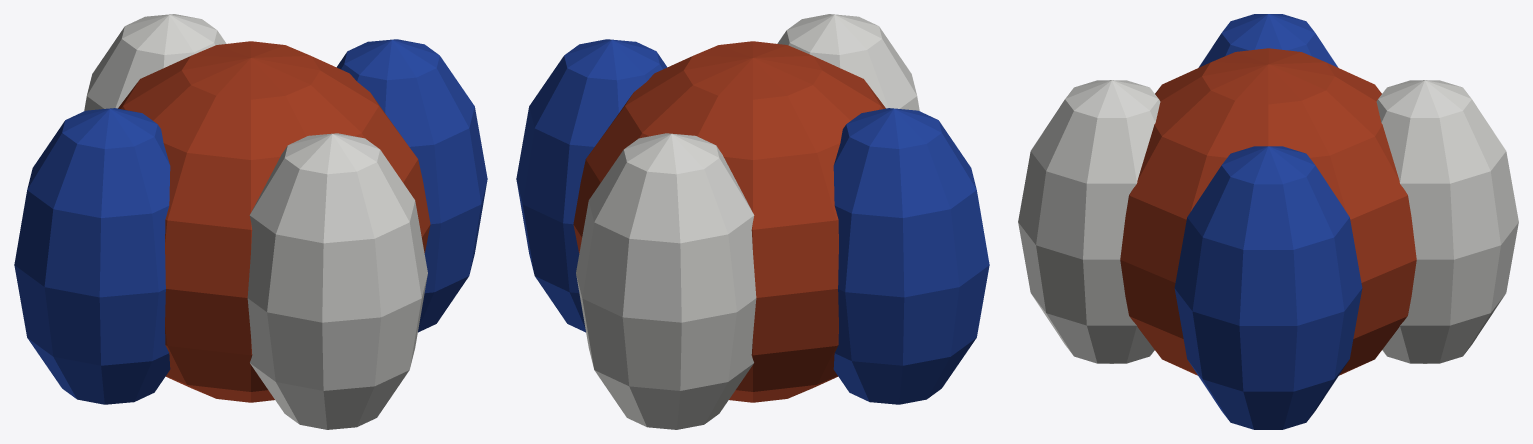
Rendered from PRP_BeachBall_BCH_v001.glb.
The picture shows the model from 3 angles, left to right: view 1: azimuth 30°, elevation 25°; view 2: azimuth 150°, elevation 25°; view 3: azimuth 270°, elevation 25°; orthographic projection. The views are drawn at different scales.
Visible parts, largest first — view 1: PRP_BeachBall_BCH_v001; view 2: PRP_BeachBall_BCH_v001; view 3: PRP_BeachBall_BCH_v001.
Part boxes in pixels (x1=…): PRP_BeachBall_BCH_v001: x1=14, y1=14, x2=487, y2=429; PRP_BeachBall_BCH_v001: x1=516, y1=14, x2=989, y2=429; PRP_BeachBall_BCH_v001: x1=1018, y1=14, x2=1518, y2=429.
Bounding box in the file's own units: 0.5654 × 0.4 × 0.576.
